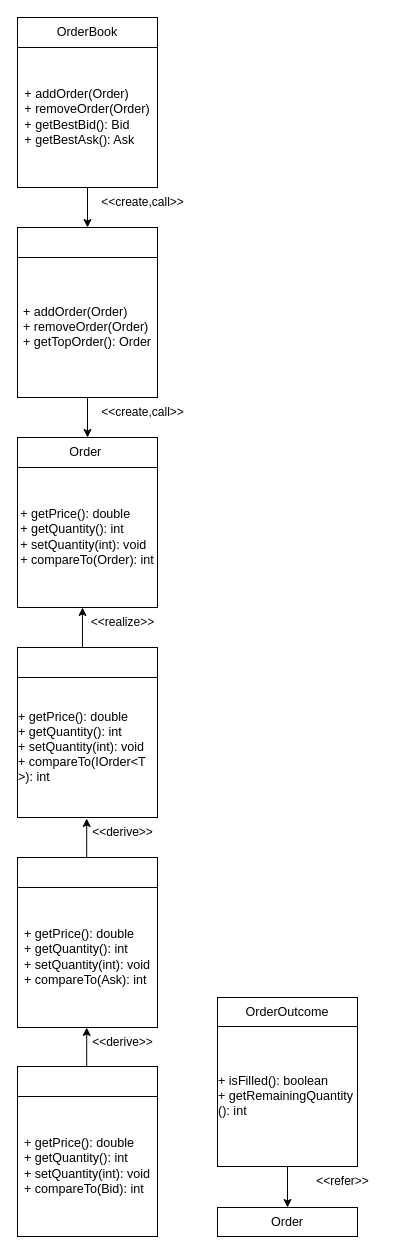
Some shapes in this 400 by 1254 pixel diagram are drawn without their labels. The shapes that lost their labels are listed below. From the top down, each one's centre as x and y in pixels, then its label:
At (x=87, y=242): "HalfBook".
At (x=87, y=662): "IOrder<T>".
At (x=87, y=872): "Ask".
At (x=87, y=1081): "Bid".
